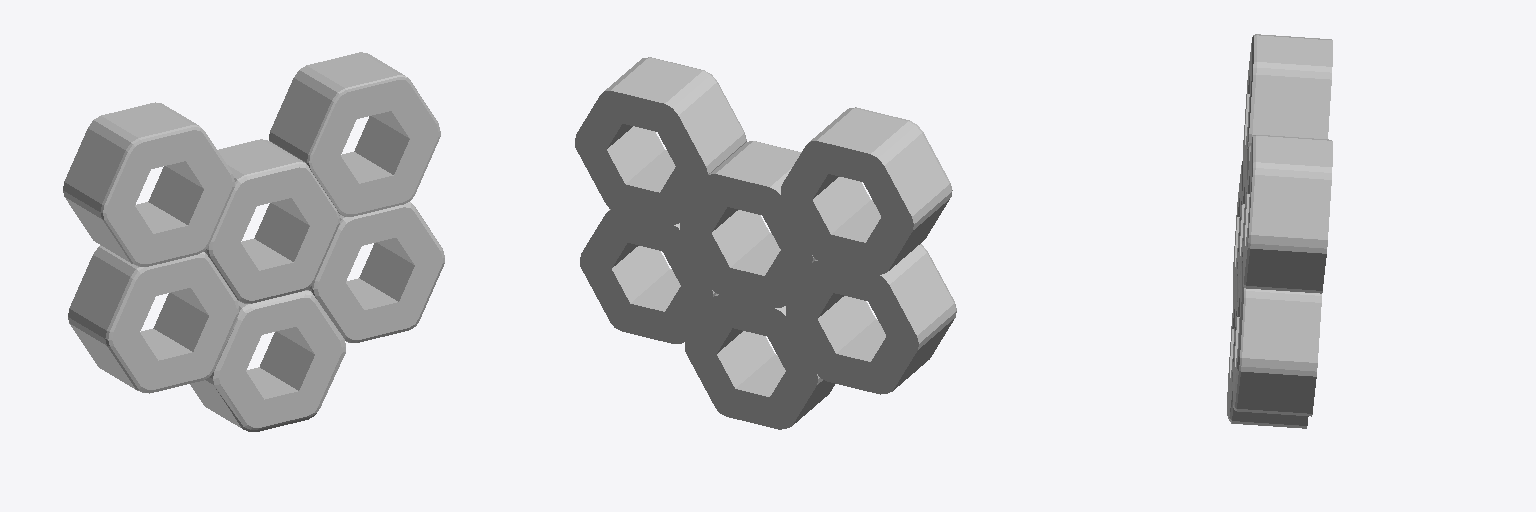
Rendered from bee_hive.obj.
3 renders of one model, left to right at view 1: azimuth 30°, elevation 25°; view 2: azimuth 150°, elevation 25°; view 3: azimuth 270°, elevation 25°, orthographic.
Visible parts, largest first — view 1: pPipe7; view 2: pPipe7; view 3: pPipe7.
Boxes of the visible parts, x1,y1,x2,y2 form: pPipe7: [63, 52, 444, 431]; pPipe7: [575, 57, 956, 429]; pPipe7: [1227, 34, 1332, 428].
Size of the model in its own units: 48.93 by 43.51 by 13.12.